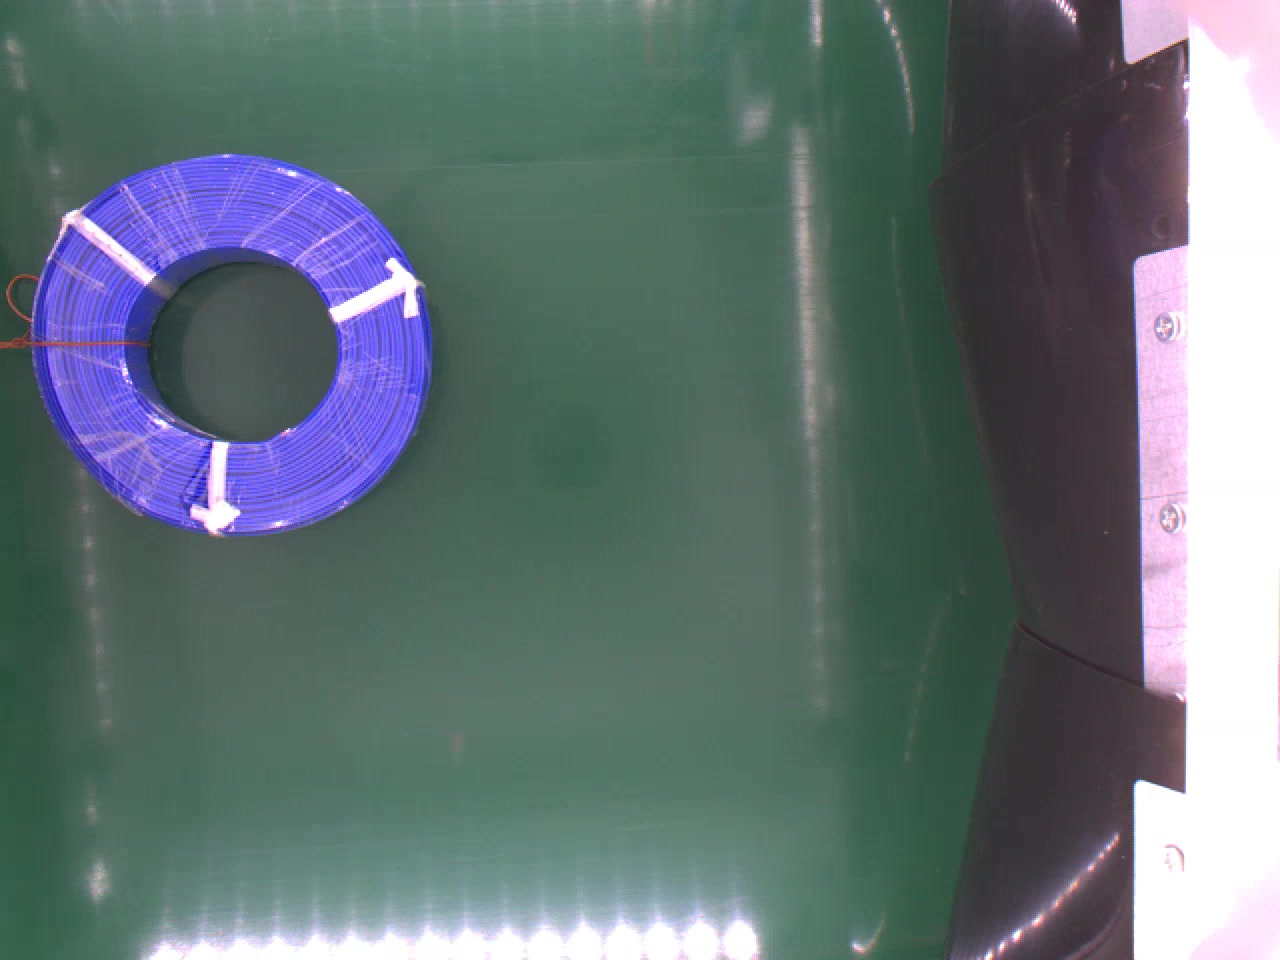blue: (29, 152, 425, 533)
